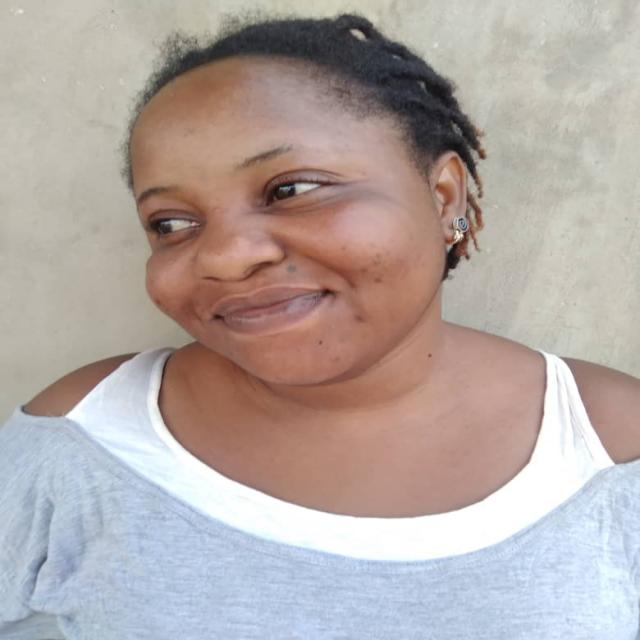happy: (119, 70, 451, 396)
